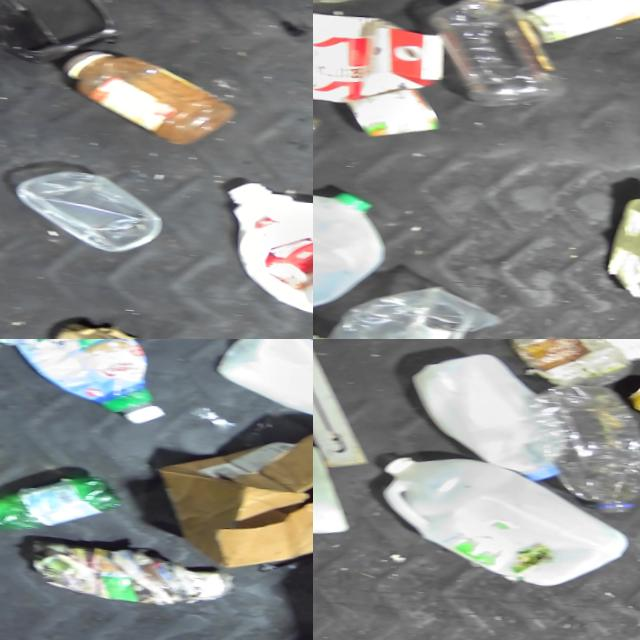milk_jug: (365, 442, 640, 592), (406, 342, 585, 481), (214, 170, 313, 320), (313, 174, 396, 321), (211, 339, 313, 422)
plastic_bottle: (53, 44, 242, 143), (522, 375, 640, 516), (431, 0, 578, 111), (0, 451, 130, 560), (492, 339, 640, 388)
